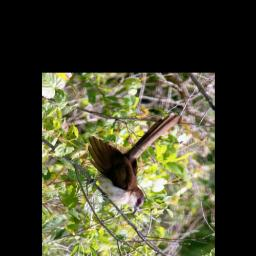Cuckoo: (83, 136, 184, 217)
